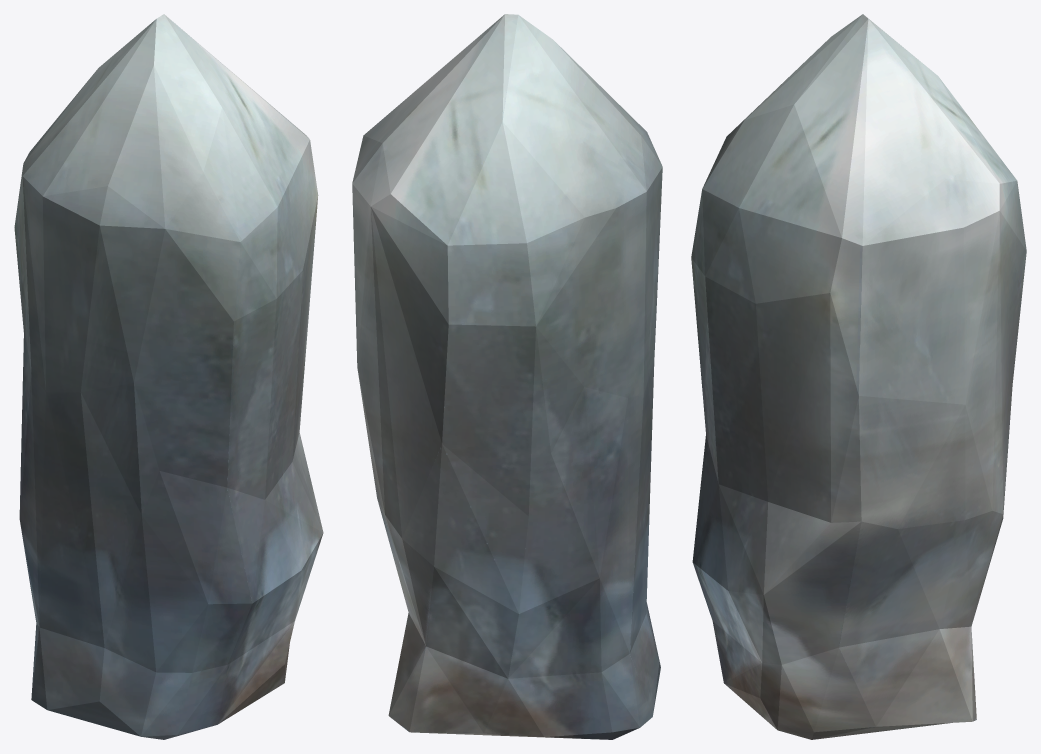
File: SCP409_model.fbx
3 renders of one model, left to right at view 1: azimuth 30°, elevation 25°; view 2: azimuth 150°, elevation 25°; view 3: azimuth 270°, elevation 25°, orthographic. The views are drawn at different scales.
Visible parts, largest first — view 1: room409_opt.b3d.024; view 2: room409_opt.b3d.024; view 3: room409_opt.b3d.024.
Boxes of the visible parts, <box> form: room409_opt.b3d.024: <box>14,14,323,739</box>; room409_opt.b3d.024: <box>352,14,662,739</box>; room409_opt.b3d.024: <box>691,14,1026,739</box>.
Size of the model in its own units: 436 by 1023 by 455.
Materials: 1 (1 with a texture image).
